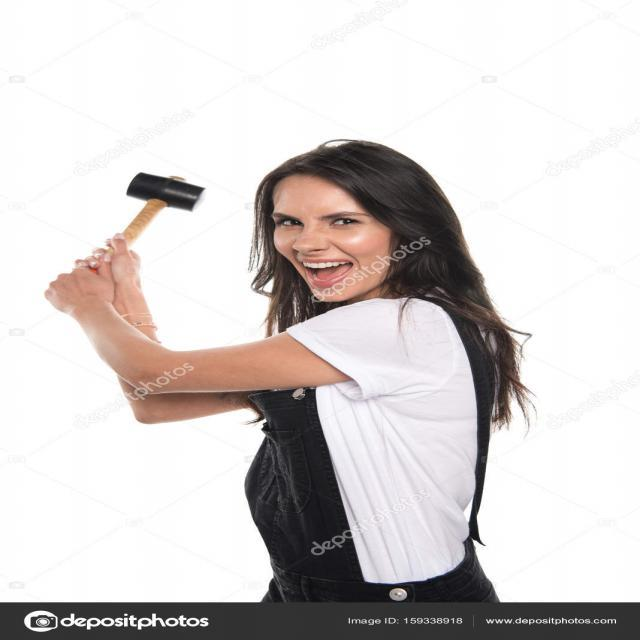hammer: (46, 156, 227, 295)
